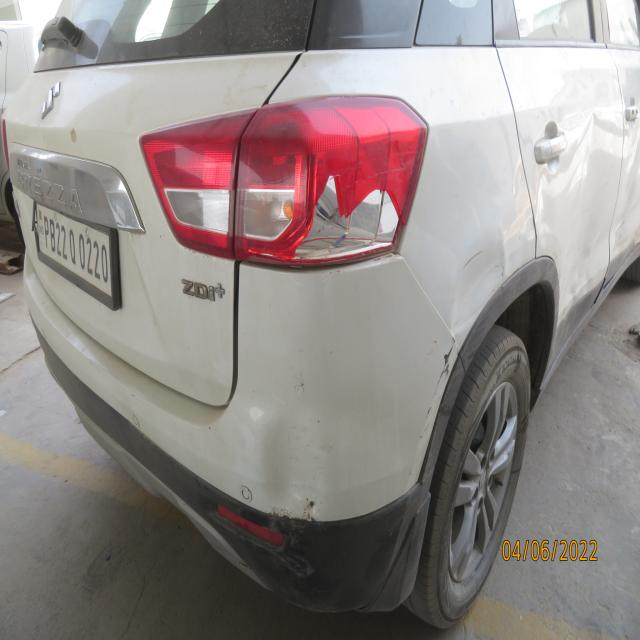damage: (287, 138, 415, 280), (452, 215, 521, 336), (252, 410, 330, 504), (413, 340, 460, 457), (265, 514, 315, 577), (269, 495, 325, 519)
